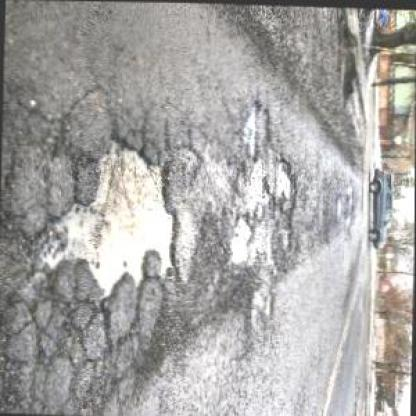pothole: (33, 126, 183, 311), (242, 98, 271, 161), (273, 154, 298, 212), (226, 211, 252, 266), (256, 172, 276, 216), (265, 291, 274, 316)
